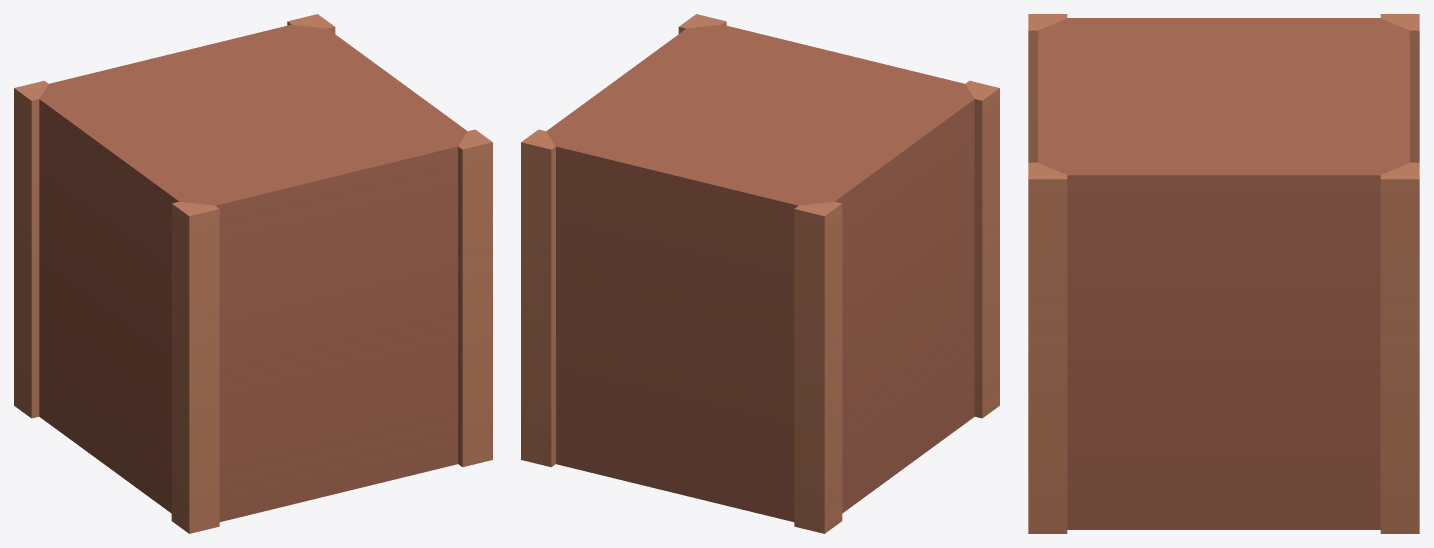
The model's file is wall-wood-block.fbx.
3 views of the same model, side by side, from view 1: azimuth 30°, elevation 25°; view 2: azimuth 150°, elevation 25°; view 3: azimuth 270°, elevation 25° (orthographic). The views are drawn at different scales.
Parts seen in each view (by area): view 1: wall-wood-block; view 2: wall-wood-block; view 3: wall-wood-block.
Part boxes in pixels (x1=…): wall-wood-block: x1=14, y1=14, x2=492, y2=533; wall-wood-block: x1=521, y1=14, x2=999, y2=533; wall-wood-block: x1=1028, y1=14, x2=1419, y2=533.
Size of the model in its own units: 100 by 100 by 100.
1 material, 1 textured.
